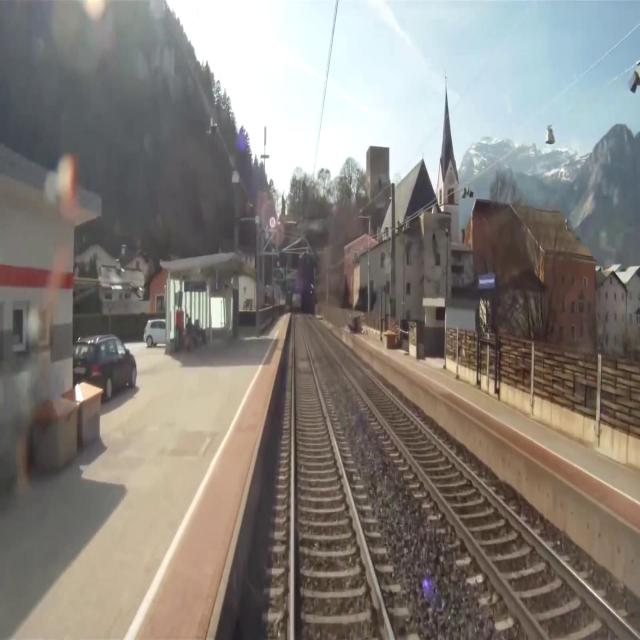rail-track: (306, 312, 637, 639), (294, 311, 389, 639)
